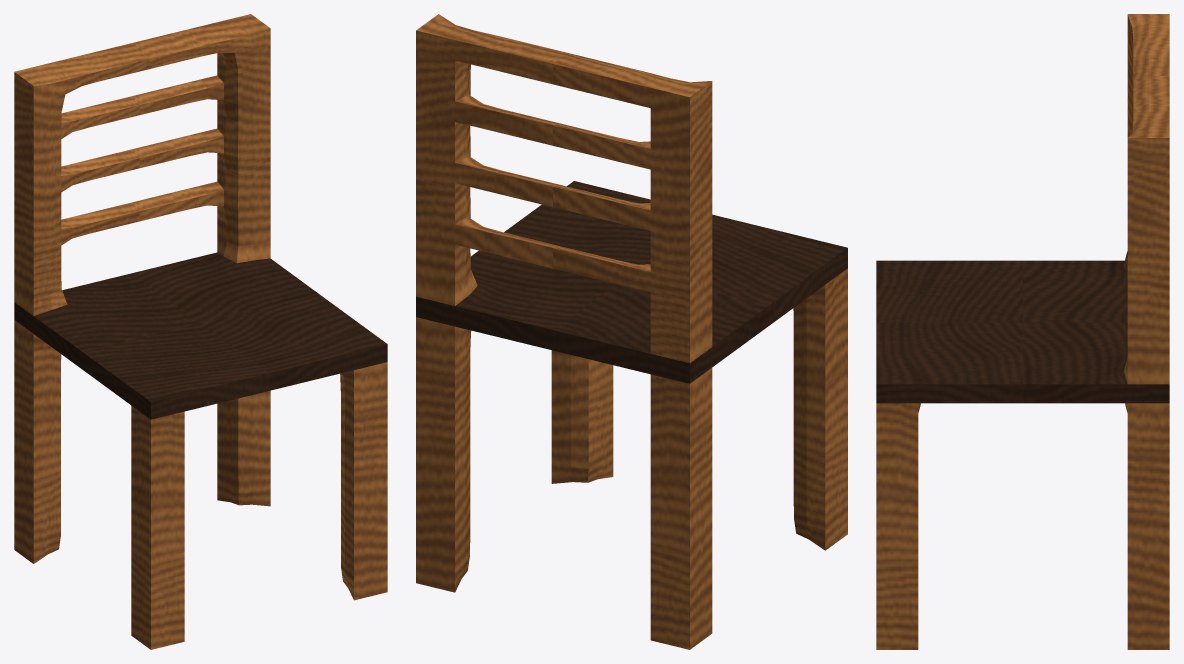
The model's file is furn_chair.glb.
3 views of the same model, side by side, from view 1: azimuth 30°, elevation 25°; view 2: azimuth 150°, elevation 25°; view 3: azimuth 270°, elevation 25° (orthographic). The views are drawn at different scales.
Visible parts, largest first — view 1: town_furn_chair; view 2: town_furn_chair; view 3: town_furn_chair.
Boxes of the visible parts, x1,y1,x2,y2 form: town_furn_chair: (14, 14, 387, 649); town_furn_chair: (416, 14, 847, 649); town_furn_chair: (876, 14, 1169, 649).
Size of the model in its own units: 0.4375 by 0.8438 by 0.4375.
Materials: 1 (1 with a texture image).
